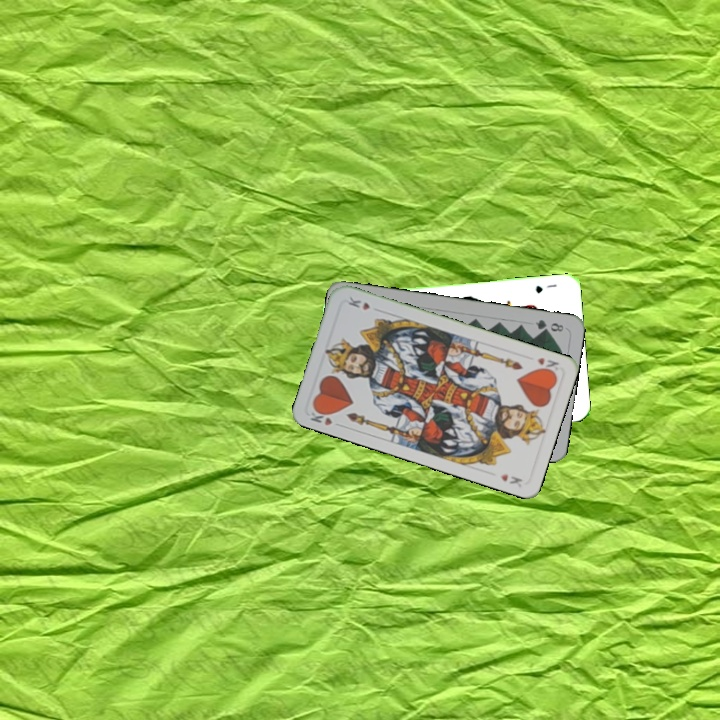G8: (531, 315, 566, 334)
GU: (532, 280, 559, 296)
HK: (306, 404, 345, 430), (533, 353, 562, 376)
